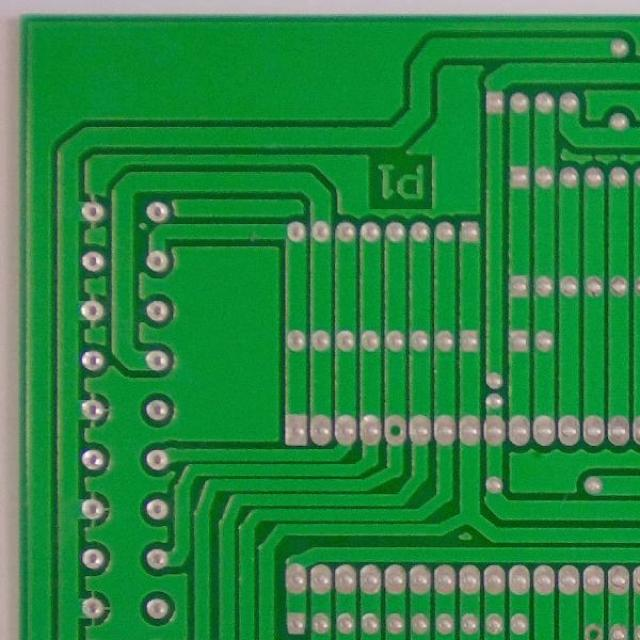missing_hole: (383, 415, 407, 444), (582, 621, 605, 639)
